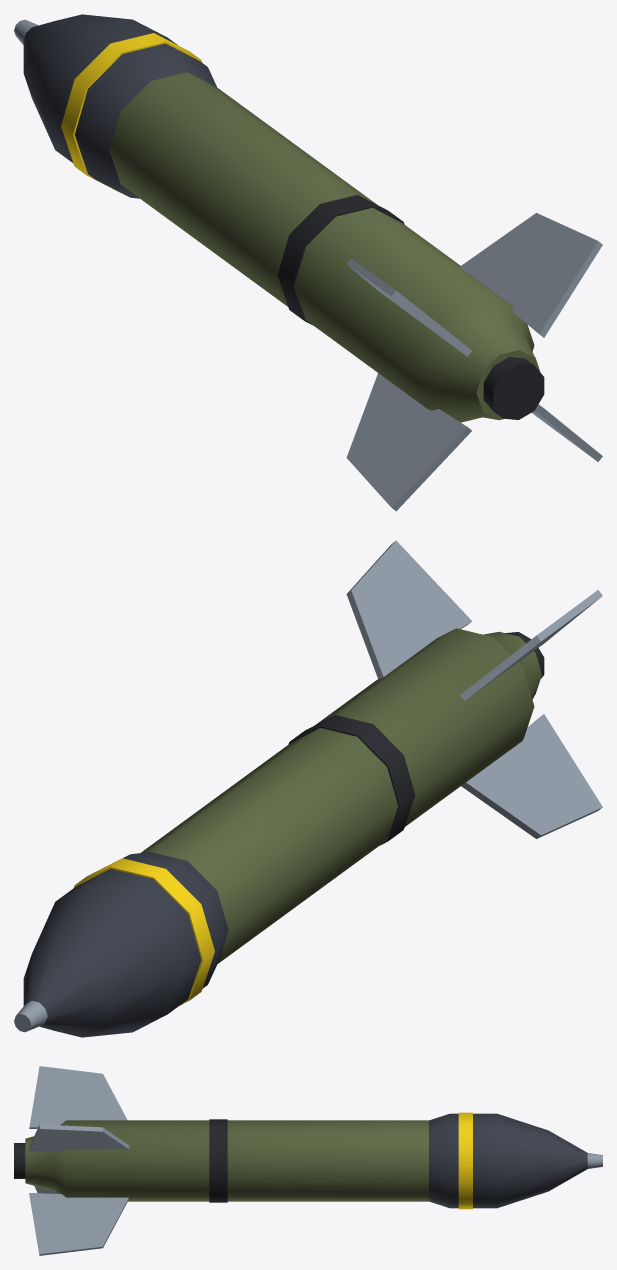
Rendered from rocket.glb.
3 renders of one model, top to bottom at view 1: azimuth 30°, elevation 25°; view 2: azimuth 150°, elevation 25°; view 3: azimuth 270°, elevation 25°, orthographic. The views are drawn at different scales.
Visible parts, largest first — view 1: Body; view 2: Body; view 3: Body.
Boxes of the visible parts, x1,y1,x2,y2 form: Body: (14,14,602,511); Body: (14,540,602,1037); Body: (14,1066,602,1255).
Bounding box in the file's own units: 0.1418 × 0.1418 × 0.576.
